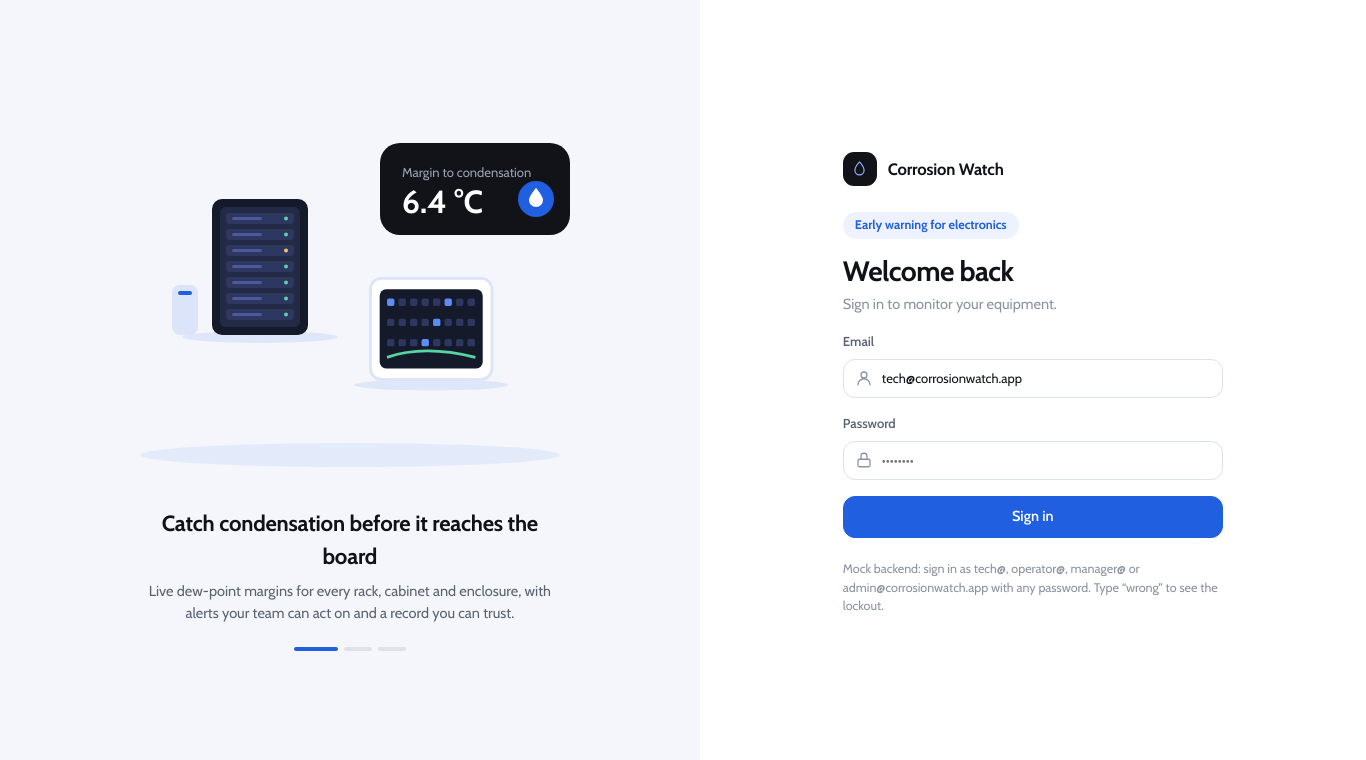
Test: with the mock backend › a correct sign-in opens the dashboard for that role
This screenshot has width=1366, height=760.
Step 1. Replace the text in the field labelled "Email" with "manager@corrosionwatch.app" → (1033, 378), box [843, 358, 1223, 398]
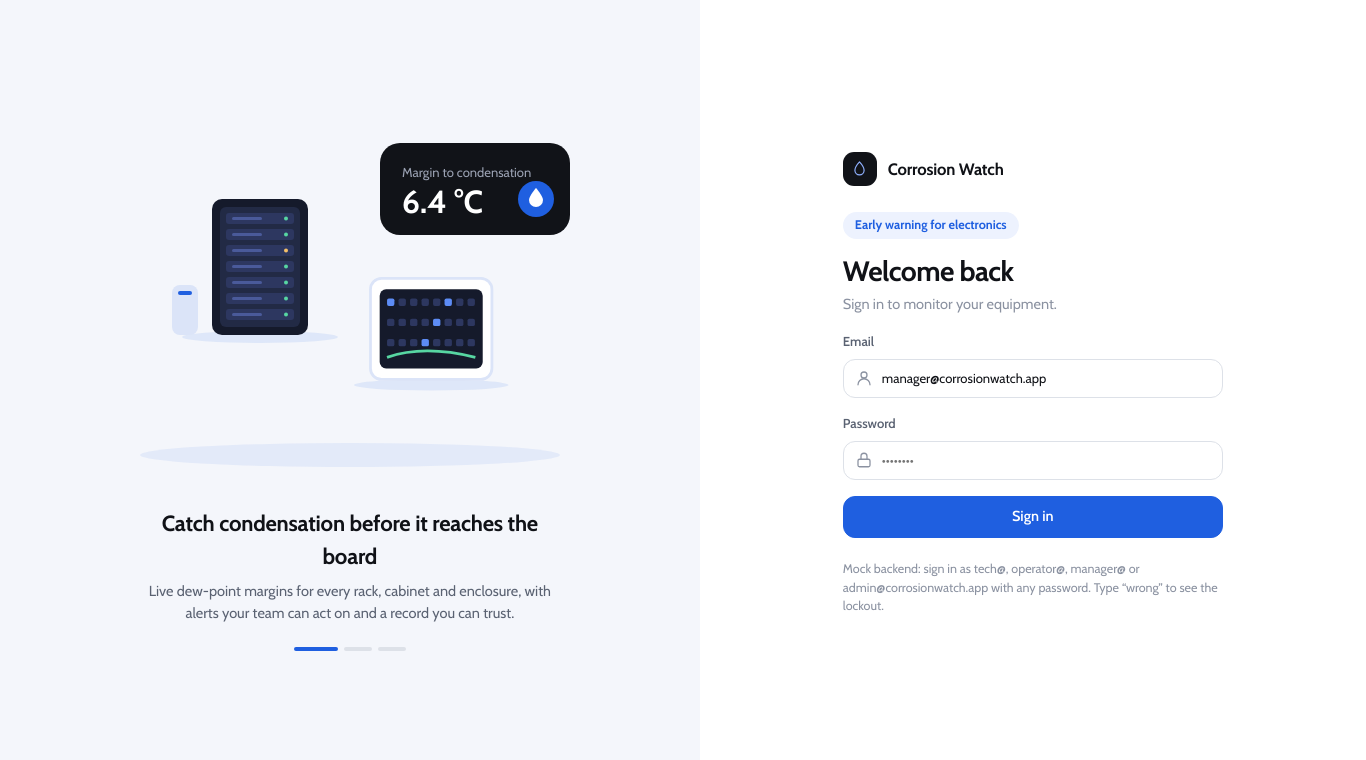
Step 2. Type "anything" into the password field labelled "Password" → (1033, 460), box [843, 440, 1223, 480]
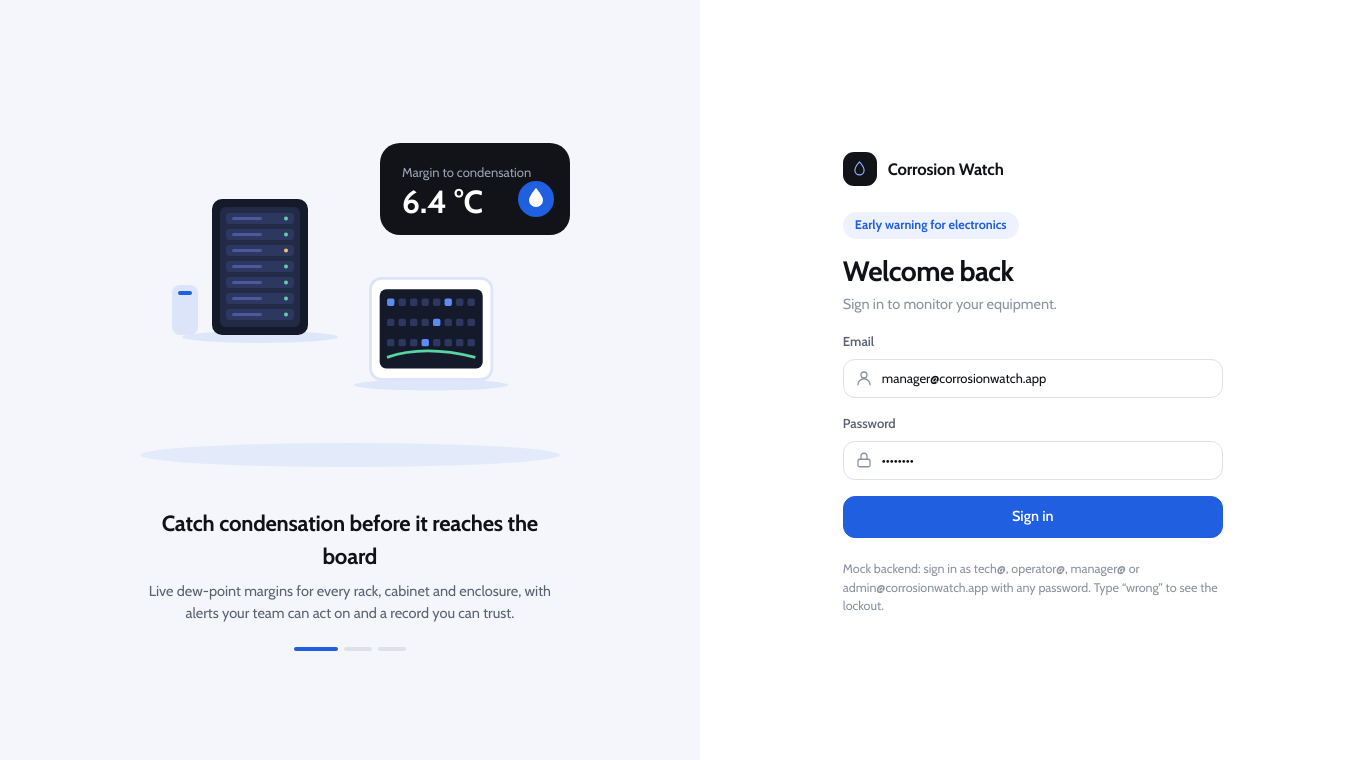
Step 3. Click the button "Sign in" → click(1033, 517), box [843, 496, 1223, 538]
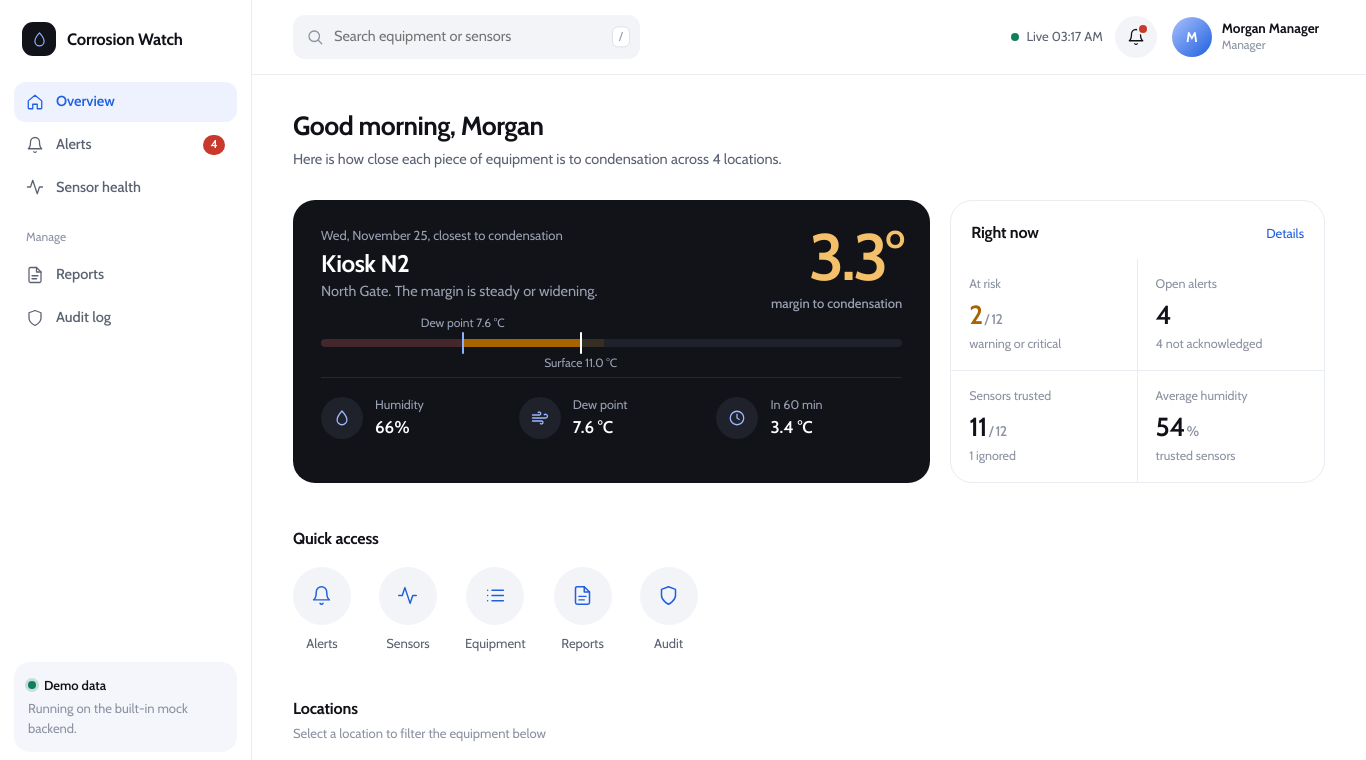
Check: the button named "Notifications" is shown, box [1115, 16, 1157, 58]
